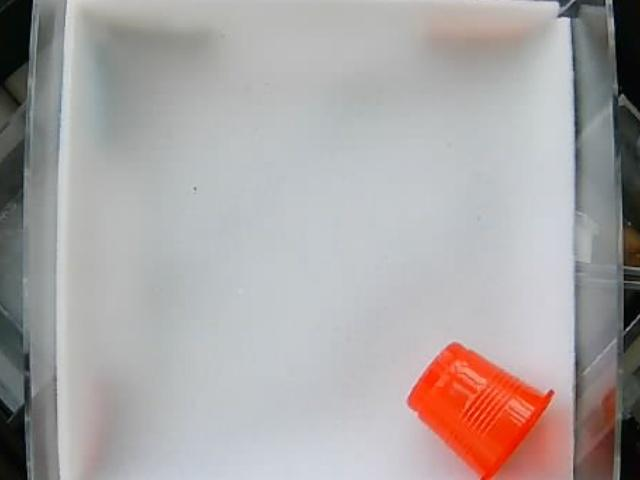Cup: (404, 341, 560, 480)
